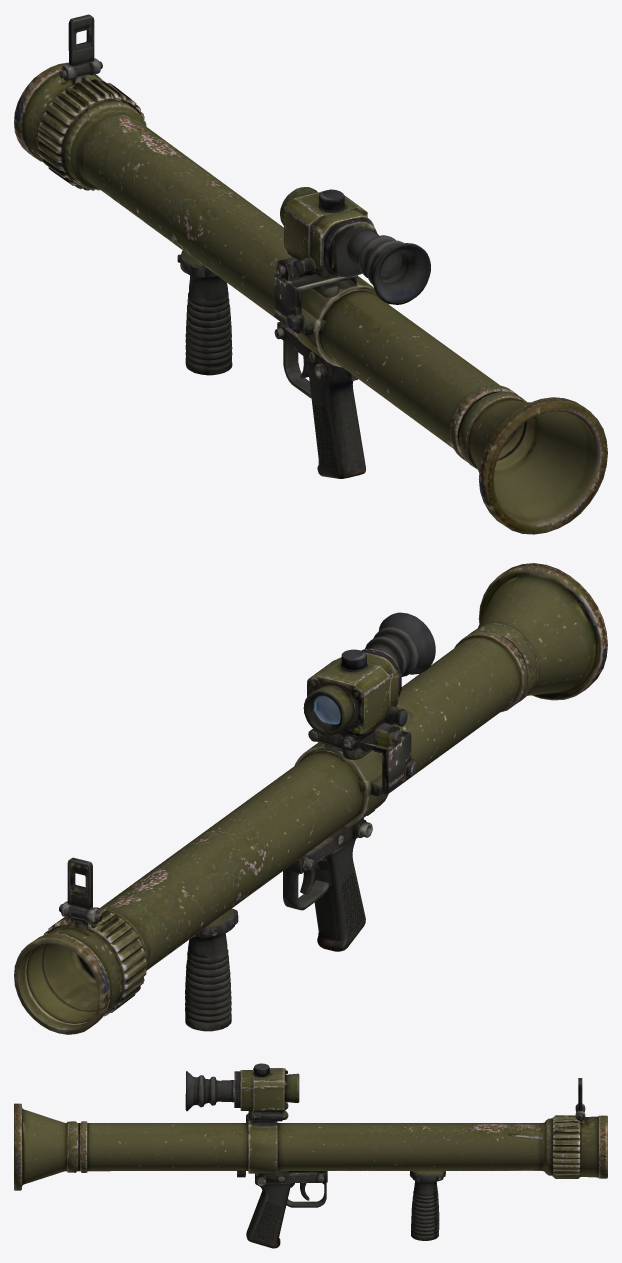
The model's file is launcher.glb.
The picture shows the model from 3 angles, top to bottom: view 1: azimuth 30°, elevation 25°; view 2: azimuth 150°, elevation 25°; view 3: azimuth 270°, elevation 25°; orthographic projection. The views are drawn at different scales.
Visible parts, largest first — view 1: launcher; view 2: launcher; view 3: launcher.
Boxes of the visible parts, box(x1,y1,x2,y2) form: launcher: box(14, 14, 607, 534); launcher: box(14, 563, 607, 1034); launcher: box(14, 1063, 607, 1248).
Size of the model in its own units: 0.1629 by 0.3595 by 1.1.
1 material, 1 textured.
